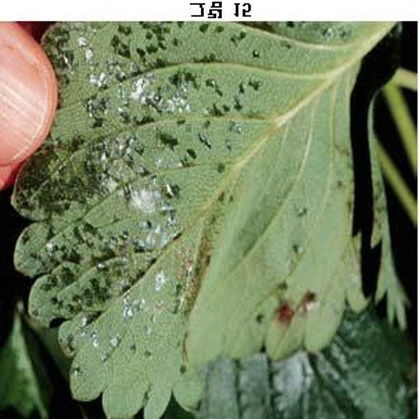Angular_LS: (11, 1, 374, 399)
